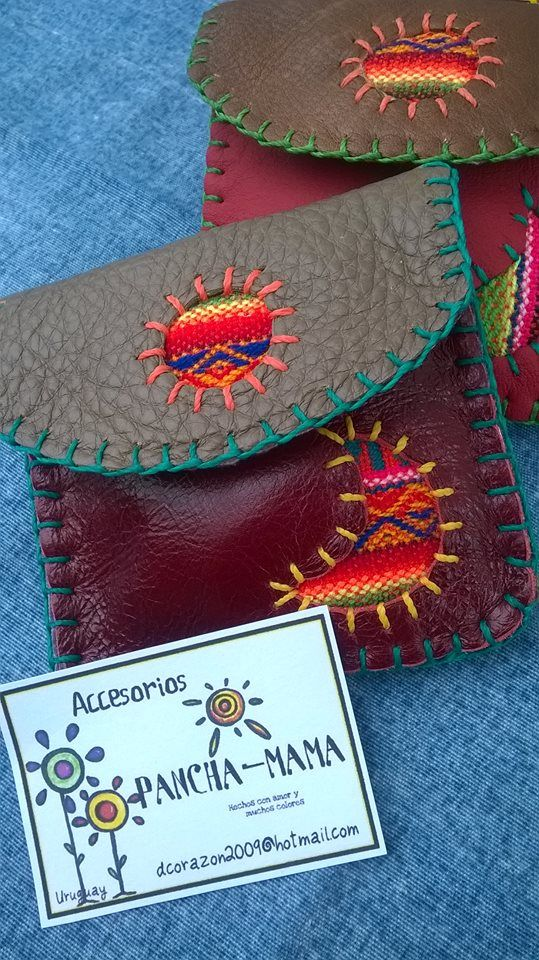cuero: (1, 1, 539, 673)
